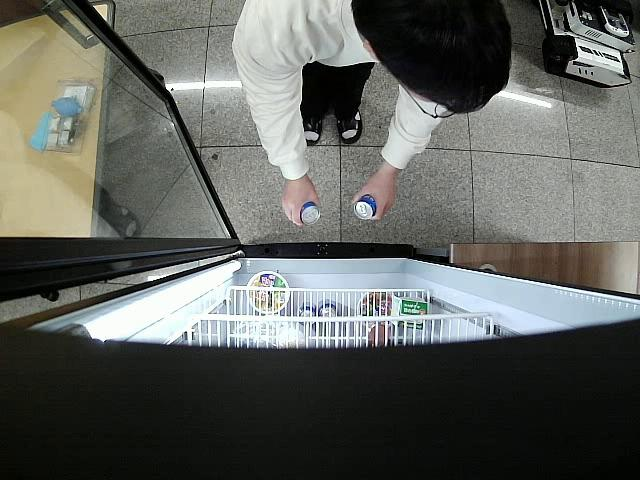00_hand: (350, 172, 398, 221), (283, 182, 319, 227)
15_letsbe: (353, 194, 378, 223)
